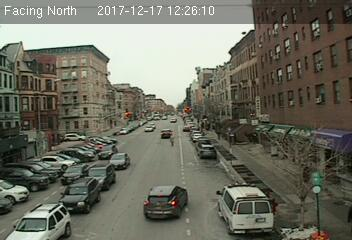car: (142, 185, 189, 222), (56, 178, 102, 215), (85, 162, 116, 190), (60, 163, 92, 186), (107, 152, 132, 172), (199, 144, 217, 158), (159, 129, 173, 139)
police: (216, 181, 274, 234)
